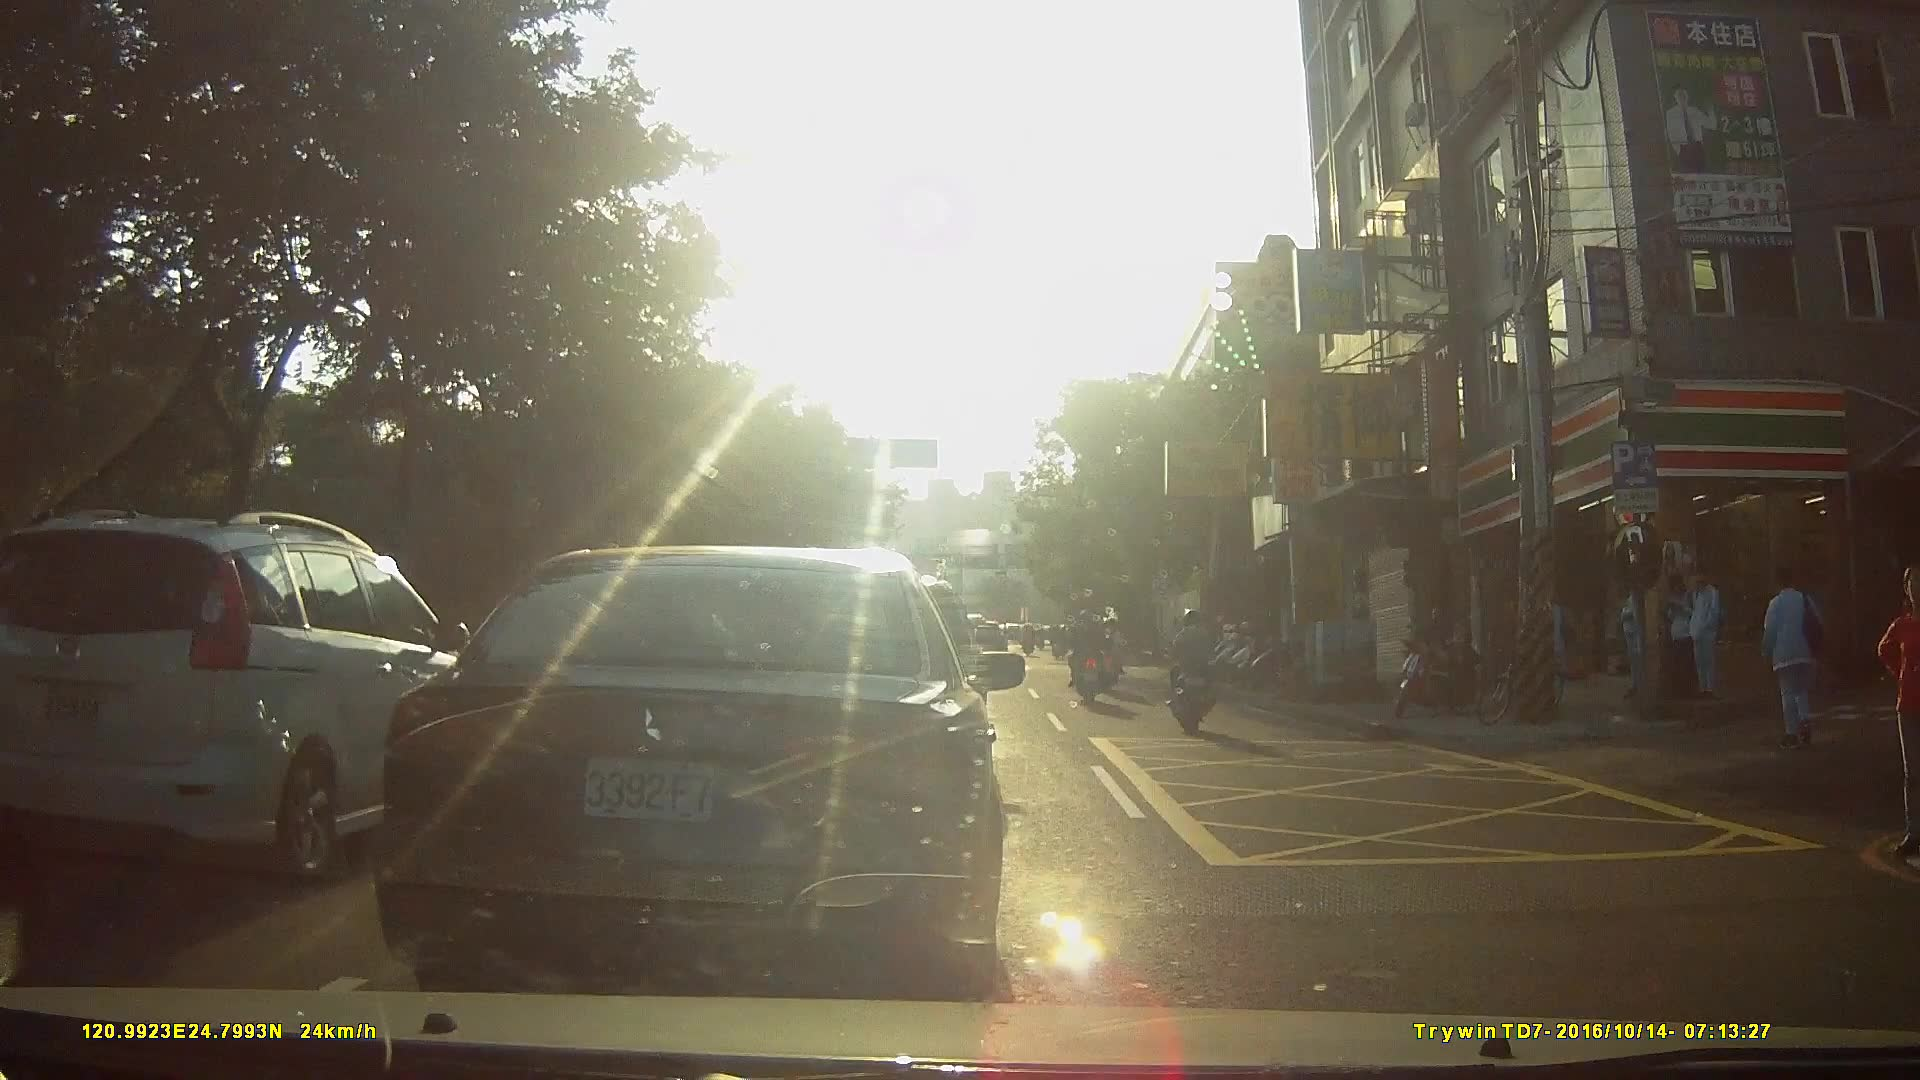pedestrian: (1763, 569, 1831, 757), (1876, 567, 1920, 854), (1679, 569, 1722, 702), (1614, 573, 1655, 708), (1662, 567, 1699, 711)
rider: (1167, 608, 1227, 740), (1067, 611, 1115, 709), (1051, 623, 1071, 662), (1020, 625, 1040, 661)
vehicle: (367, 545, 1035, 983), (1, 494, 474, 903)
